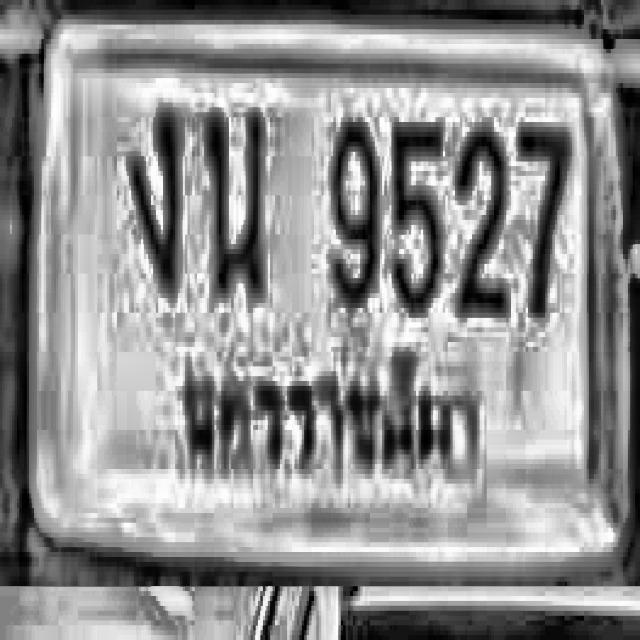license-plate: (24, 12, 632, 573)
